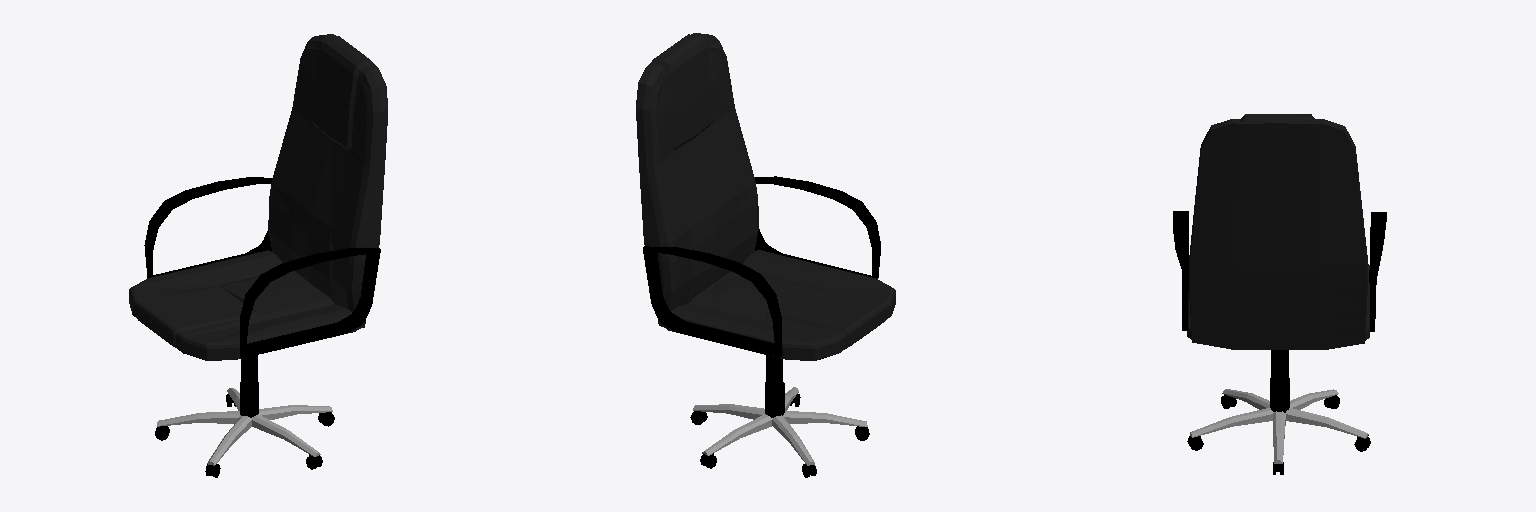
3 renders of one model, left to right at view 1: azimuth 30°, elevation 25°; view 2: azimuth 150°, elevation 25°; view 3: azimuth 270°, elevation 25°, orthographic.
Visible parts, largest first — view 1: Silla:Chairs_GRPOfficeChair_MSH; view 2: Silla:Chairs_GRPOfficeChair_MSH; view 3: Silla:Chairs_GRPOfficeChair_MSH.
Boxes of the visible parts, x1=… form: Silla:Chairs_GRPOfficeChair_MSH: x1=129, y1=34, x2=387, y2=477; Silla:Chairs_GRPOfficeChair_MSH: x1=636, y1=33, x2=895, y2=477; Silla:Chairs_GRPOfficeChair_MSH: x1=1173, y1=114, x2=1386, y2=474.
Size of the model in its own units: 2.05 by 3.6 by 1.89.
4 materials, 3 textured.